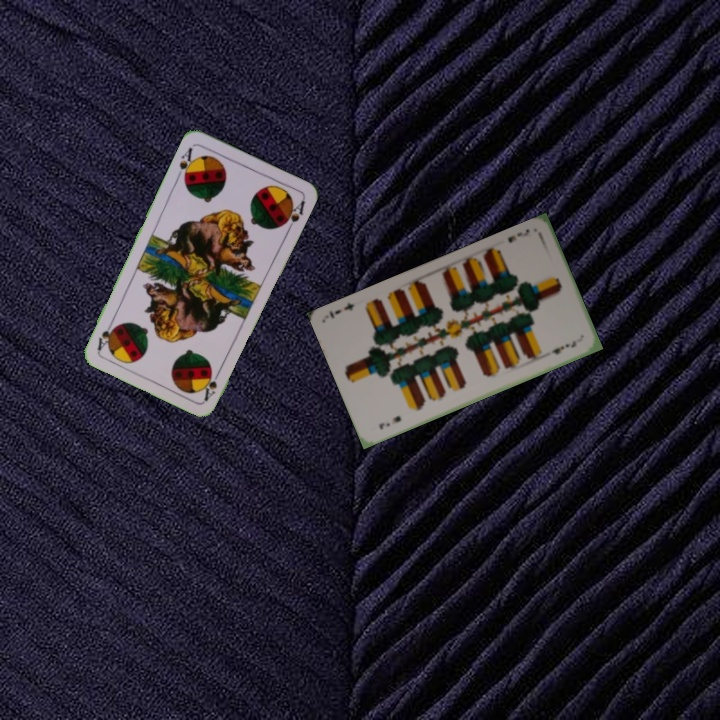E7: (375, 411, 404, 432), (504, 225, 532, 245)
SA: (173, 143, 198, 183), (199, 365, 224, 403)
